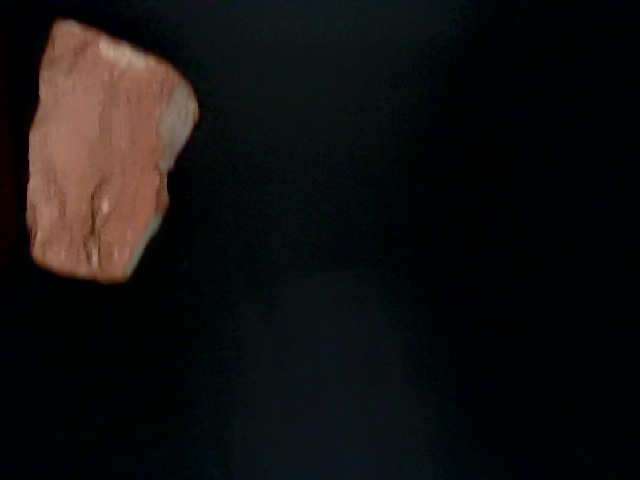KHSLJ: (6, 326, 273, 480)
